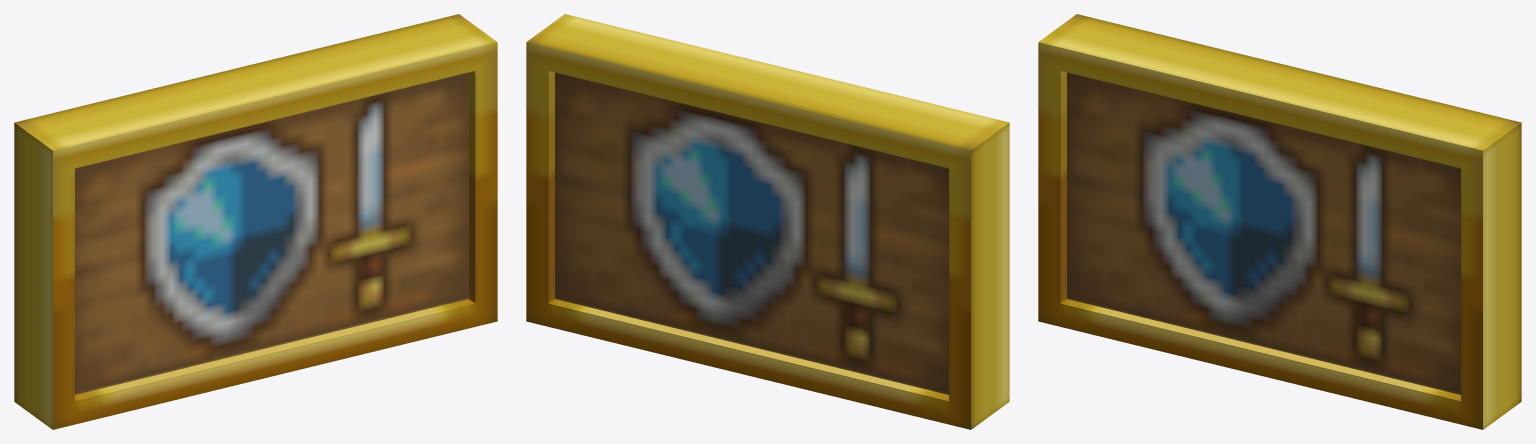
File: Poly_Board_Sign_02.obj
3 views of the same model, side by side, from view 1: azimuth 30°, elevation 25°; view 2: azimuth 150°, elevation 25°; view 3: azimuth 330°, elevation 25° (orthographic).
Visible parts, largest first — view 1: Cube; view 2: Cube; view 3: Cube.
Boxes of the visible parts, bbox=[...] form: Cube: bbox=[14, 14, 497, 429]; Cube: bbox=[526, 14, 1009, 429]; Cube: bbox=[1038, 14, 1521, 429].
Bounding box in the file's own units: 1 × 0.6 × 0.15.
1 material, 1 textured.
